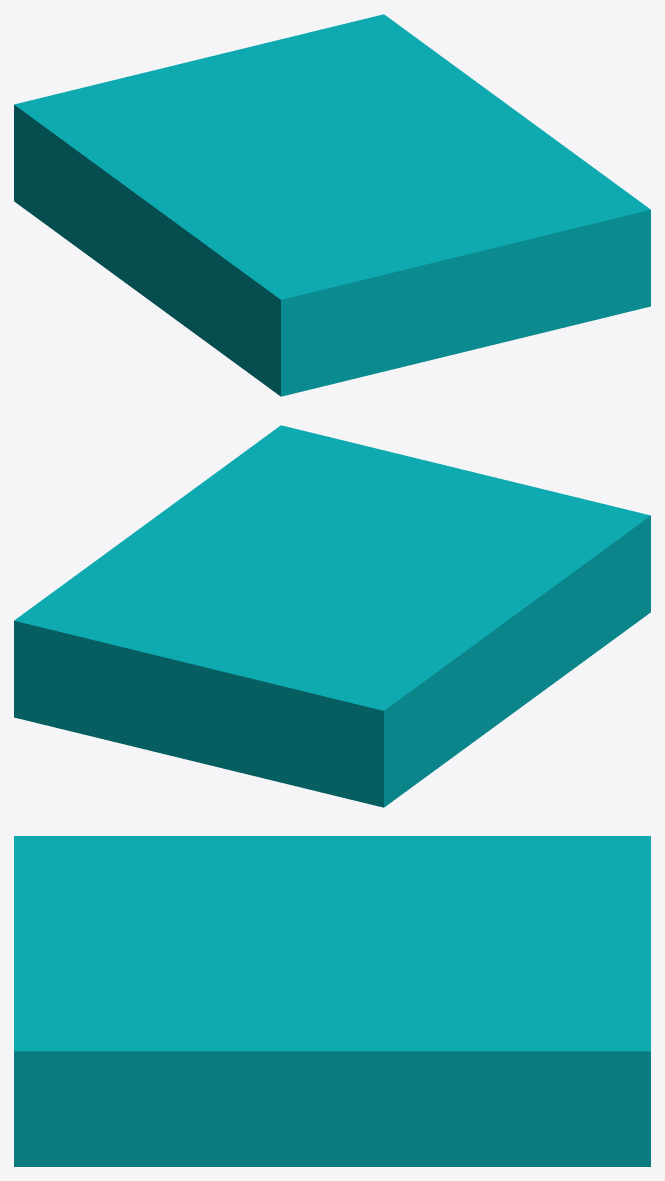
Rendered from arrow.fbx.
3 views of the same model, one above another, from view 1: azimuth 30°, elevation 25°; view 2: azimuth 150°, elevation 25°; view 3: azimuth 270°, elevation 25° (orthographic). The views are drawn at different scales.
Visible parts, largest first — view 1: Cube; view 2: Cube; view 3: Cube.
Part boxes in pixels (x1=…): Cube: x1=14, y1=14, x2=650, y2=396; Cube: x1=14, y1=425, x2=650, y2=807; Cube: x1=14, y1=836, x2=650, y2=1166.
Bounding box in the file's own units: 100 × 125 × 25.
